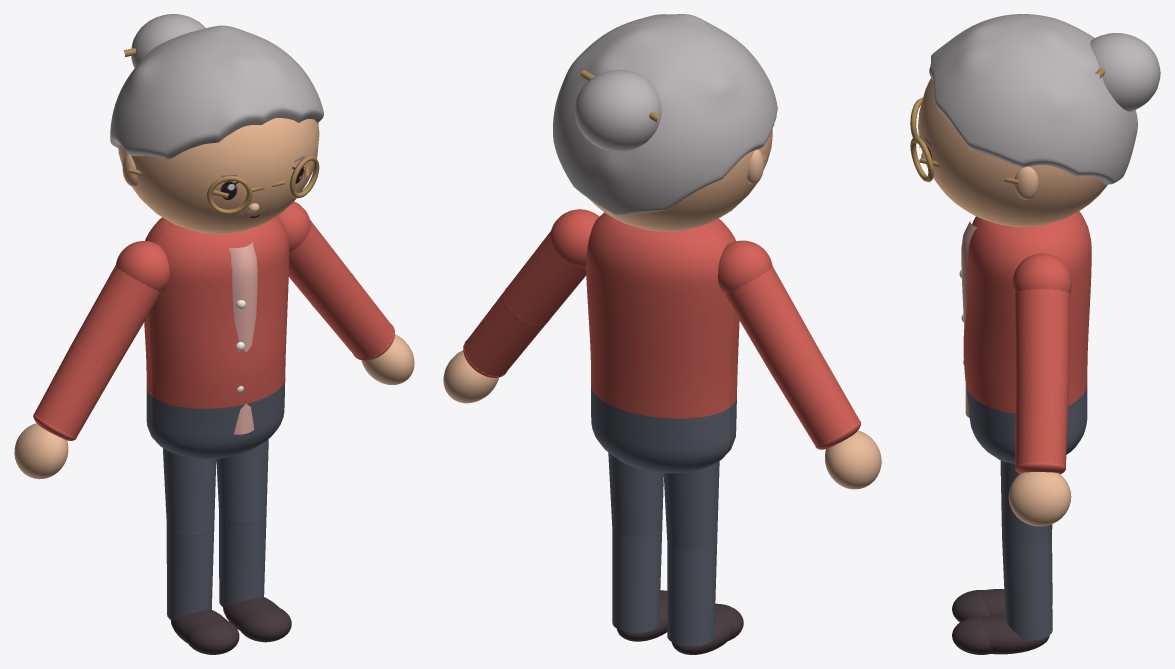
The model's file is mei_old.glb.
3 views of the same model, side by side, from view 1: azimuth 30°, elevation 25°; view 2: azimuth 150°, elevation 25°; view 3: azimuth 270°, elevation 25° (orthographic). The views are drawn at different scales.
Parts seen in each view (by area): view 1: torso, hair, head, upper_arm_R, pelvis, upper_arm_L, lower_arm_R, thigh_R, shin_R, shin_L, thigh_L, lower_arm_L (+4 smaller); view 2: hair, torso, pelvis, upper_arm_R, upper_arm_L, head, lower_arm_R, shin_L, shin_R, thigh_R, thigh_L, lower_arm_L (+4 smaller); view 3: hair, torso, head, upper_arm_L, lower_arm_L, shin_L, pelvis, hand_L, shoe_L, thigh_L, shoe_R.
Part boxes in pixels (x1,y1,x2,y2): torso: (144,216,289,434); hair: (110,14,323,159); head: (118,48,319,233); upper_arm_R: (70,241,169,370); pelvis: (146,378,285,459); upper_arm_L: (277,201,355,311); lower_arm_R: (33,344,115,440); thigh_R: (163,448,216,537); shin_R: (166,526,214,620); shin_L: (219,513,266,608); thigh_L: (216,439,268,525); lower_arm_L: (315,276,394,360); hair: (553,14,777,215); torso: (586,212,739,418); pelvis: (591,385,736,473); upper_arm_R: (718,240,819,377); upper_arm_L: (502,209,599,328); head: (580,70,772,231); lower_arm_R: (773,348,860,449); shin_L: (612,529,662,632); shin_R: (667,542,717,646); thigh_R: (663,461,719,553); thigh_L: (608,452,663,539); lower_arm_L: (463,290,545,377); hair: (929,14,1160,184); torso: (959,211,1091,417); head: (910,68,1107,226); upper_arm_L: (1012,253,1071,388); lower_arm_L: (1015,381,1068,474); shin_L: (1002,537,1052,640); pelvis: (966,384,1087,463); hand_L: (1008,472,1071,526); shoe_L: (952,615,1049,654); thigh_L: (1000,461,1052,549); shoe_R: (952,589,1005,621).
Bounding box in the file's own units: 1.11 × 1.58 × 0.5825.
9 materials, 1 textured.
